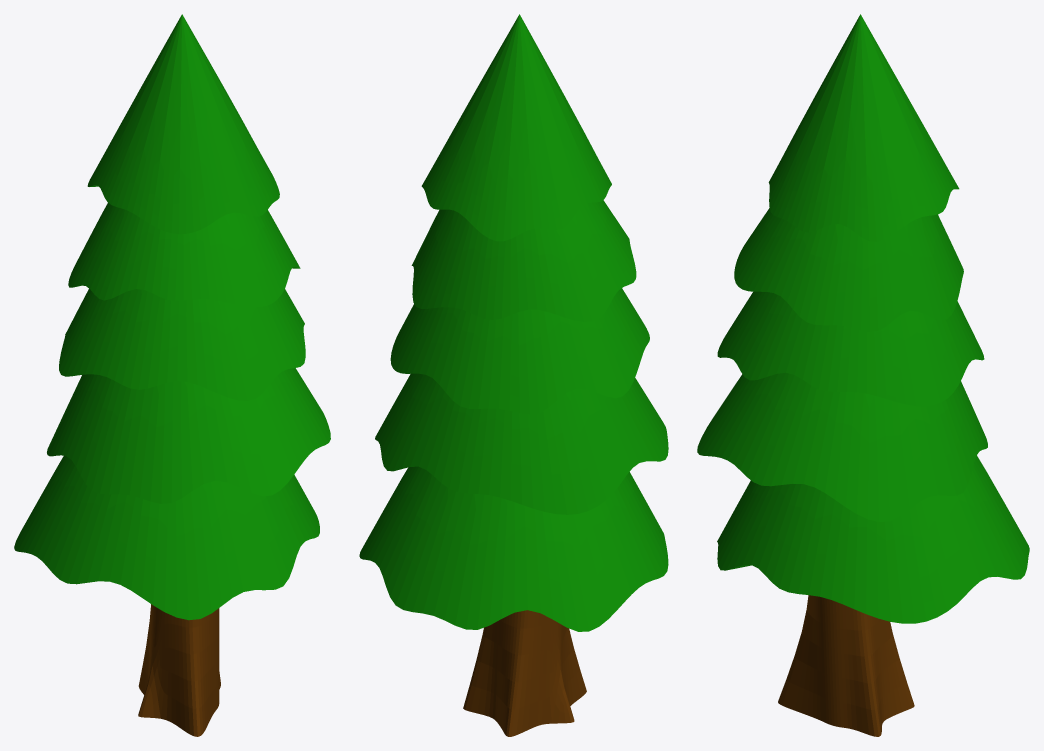
The model's file is tree.fbx.
The picture shows the model from 3 angles, left to right: view 1: azimuth 30°, elevation 25°; view 2: azimuth 150°, elevation 25°; view 3: azimuth 270°, elevation 25°; orthographic projection.
Parts seen in each view (by area): view 1: tronc base.031; view 2: tronc base.031; view 3: tronc base.031.
Boxes of the visible parts, x1,y1,x2,y2 form: tronc base.031: (14,14,330,736); tronc base.031: (359,14,668,736); tronc base.031: (697,14,1029,736).
Size of the model in its own units: 3143 by 7847 by 3378.
